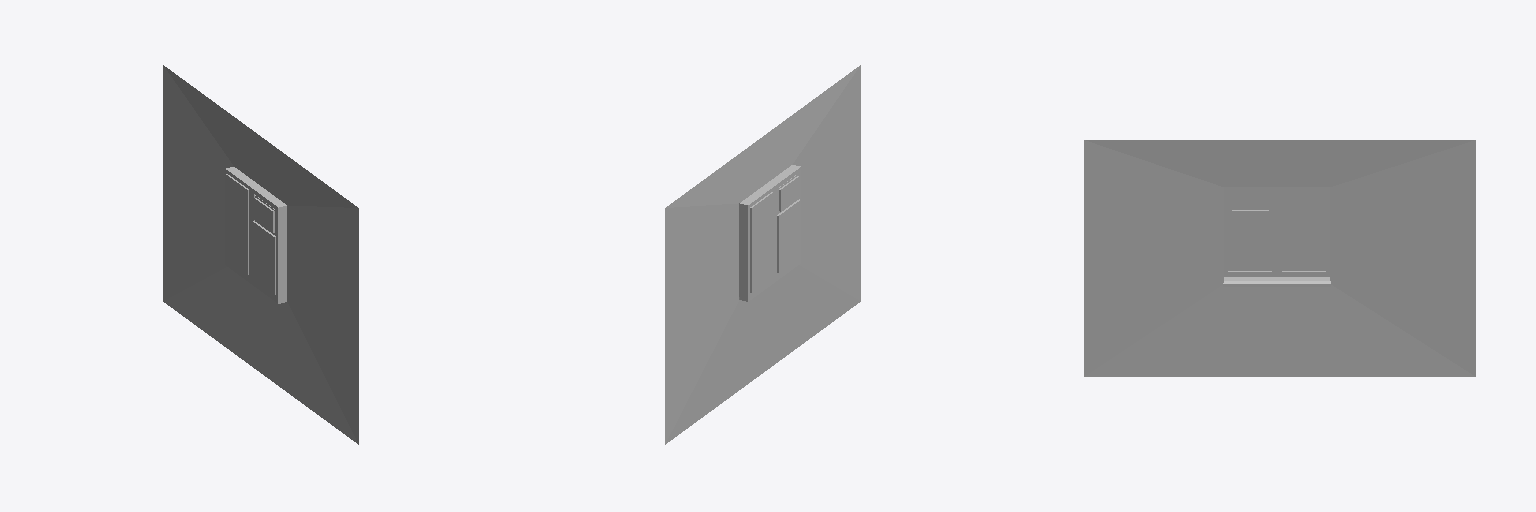
Rendered from wallWindow1.obj.
The picture shows the model from 3 angles: view 1: azimuth 30°, elevation 25°; view 2: azimuth 150°, elevation 25°; view 3: azimuth 270°, elevation 25°; orthographic projection.
Visible parts, largest first — view 1: WallWindow1_low_Wood_Wall_Double_Cross_01; view 2: WallWindow1_low_Wood_Wall_Double_Cross_01; view 3: WallWindow1_low_Wood_Wall_Double_Cross_01.
Part boxes in pixels (bbox=[...]): WallWindow1_low_Wood_Wall_Double_Cross_01: bbox=[163, 65, 358, 444]; WallWindow1_low_Wood_Wall_Double_Cross_01: bbox=[665, 65, 860, 444]; WallWindow1_low_Wood_Wall_Double_Cross_01: bbox=[1084, 140, 1475, 376].
Bounding box in the file's own units: 0.1258 × 2 × 3.